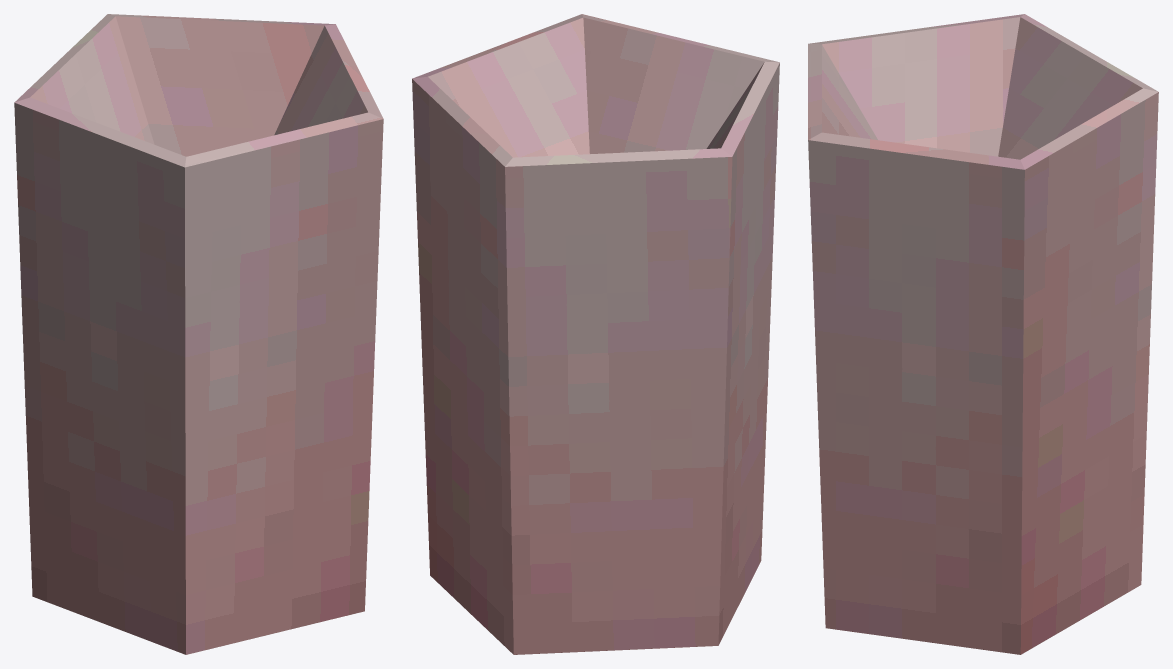
Rendered from glass2.fbx.
3 views of the same model, side by side, from view 1: azimuth 30°, elevation 25°; view 2: azimuth 150°, elevation 25°; view 3: azimuth 270°, elevation 25° (orthographic).
Visible parts, largest first — view 1: glass2; view 2: glass2; view 3: glass2.
Boxes of the visible parts, <box> form: glass2: <box>14,14,383,654</box>; glass2: <box>412,14,779,654</box>; glass2: <box>808,14,1158,654</box>.
Size of the model in its own units: 11.16 by 16.58 by 10.62.
1 material, 1 textured.
